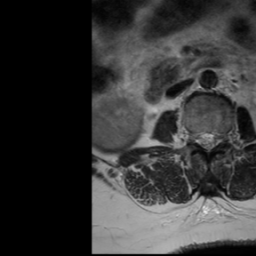CCS_normal: (204, 123, 212, 158)
LFS_normal: (219, 124, 227, 151)
LLS_normal: (212, 124, 220, 152)
RFS_normal: (188, 123, 196, 150)
RLS_normal: (196, 124, 204, 153)
